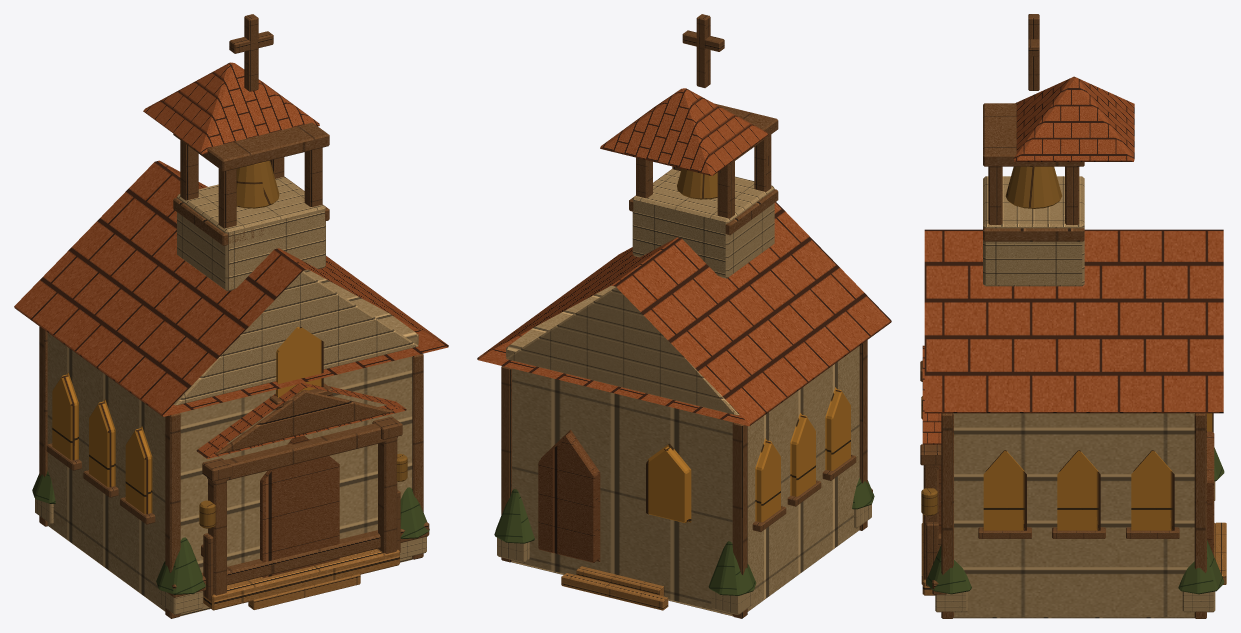
File: chapel-reexport.glb
3 views of the same model, side by side, from view 1: azimuth 30°, elevation 25°; view 2: azimuth 150°, elevation 25°; view 3: azimuth 270°, elevation 25° (orthographic). The views are drawn at different scales.
Parts seen in each view (by area): view 1: ChapelFullWrap; view 2: ChapelFullWrap; view 3: ChapelFullWrap.
Boxes of the visible parts, x1,y1,x2,y2 form: ChapelFullWrap: (14, 14, 448, 618); ChapelFullWrap: (477, 14, 891, 618); ChapelFullWrap: (920, 14, 1226, 618).
Size of the model in its own units: 3.46 by 6.25 by 3.19.
Materials: 1 (1 with a texture image).
